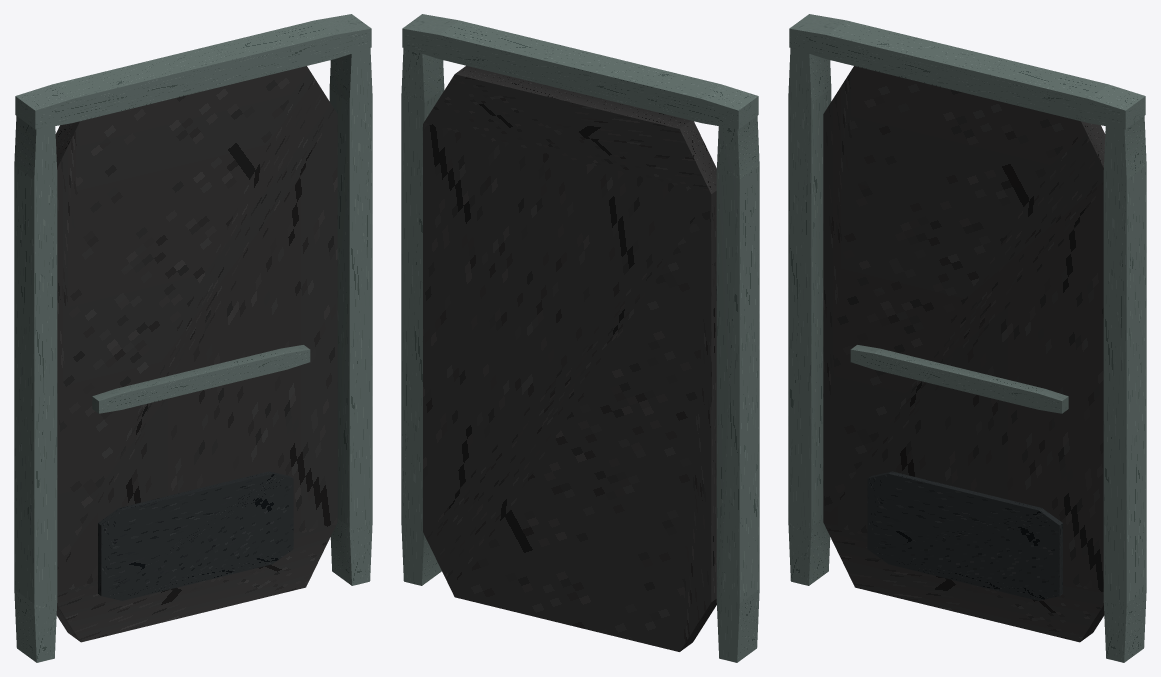
Rendered from service-door.glb.
3 renders of one model, left to right at view 1: azimuth 30°, elevation 25°; view 2: azimuth 150°, elevation 25°; view 3: azimuth 330°, elevation 25°, orthographic.
Parts seen in each view (by area): view 1: door, jamb-1, jamb1, vent, lintel, push-bar; view 2: door, jamb-1, lintel, jamb1; view 3: door, jamb1, jamb-1, vent, lintel, push-bar.
Part boxes in pixels (x1,y1,x2,y2): door: [55, 66, 337, 642]; jamb-1: [14, 116, 57, 662]; jamb1: [329, 48, 372, 585]; vent: [98, 471, 293, 600]; lintel: [15, 14, 371, 129]; push-bar: [92, 345, 310, 413]; door: [423, 65, 716, 651]; jamb-1: [716, 116, 759, 662]; lintel: [402, 14, 758, 129]; jamb1: [401, 48, 444, 585]; door: [823, 66, 1105, 642]; jamb1: [1103, 116, 1146, 662]; jamb-1: [788, 48, 831, 585]; vent: [867, 471, 1062, 600]; lintel: [789, 14, 1145, 129]; push-bar: [850, 345, 1068, 413].
Size of the model in its own units: 1.76 by 2.76 by 0.22.
Materials: 1 (1 with a texture image).
